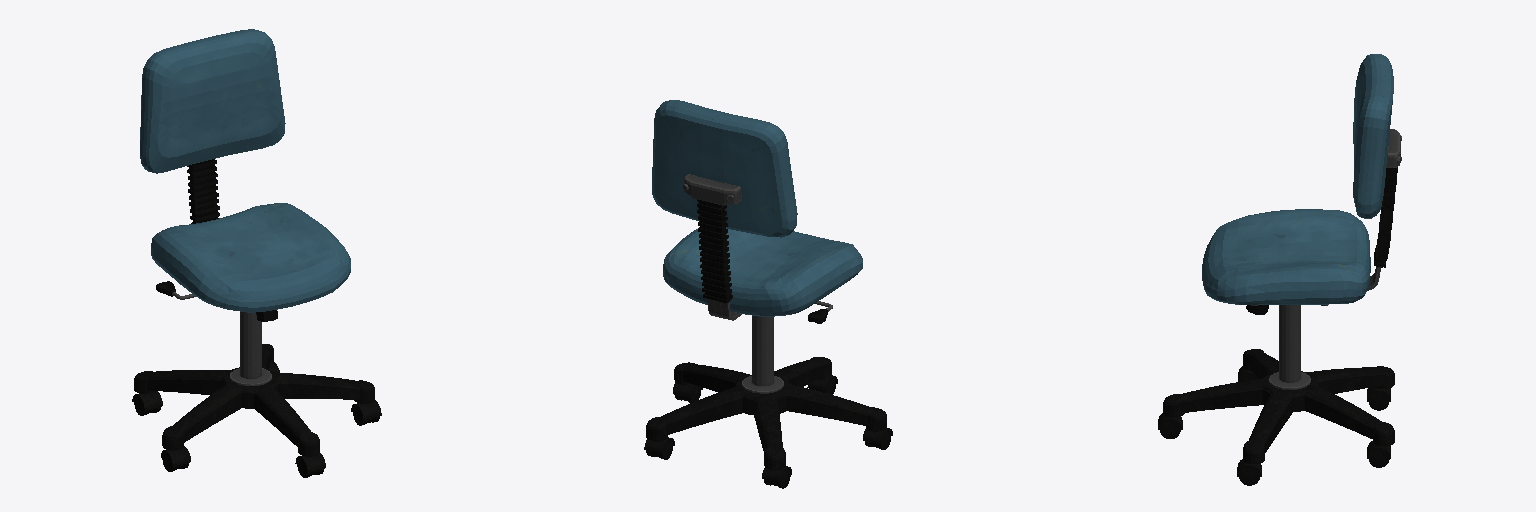
3 renders of one model, left to right at view 1: azimuth 30°, elevation 25°; view 2: azimuth 150°, elevation 25°; view 3: azimuth 270°, elevation 25°, orthographic.
Visible parts, largest first — view 1: chair01; view 2: chair01; view 3: chair01.
Part boxes in pixels (x1,y1,x2,y2): chair01: (132, 29, 381, 477); chair01: (644, 100, 892, 488); chair01: (1158, 54, 1401, 485).
Size of the model in its own units: 1.11 by 1.8 by 1.11.
1 materials, 1 textured.